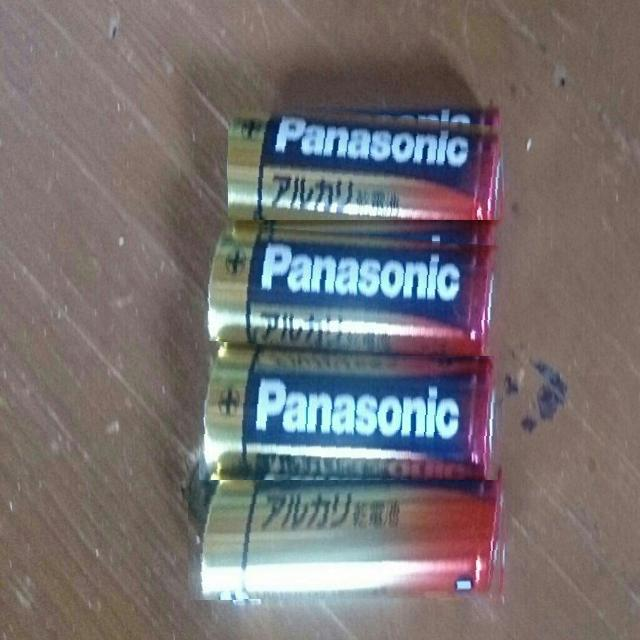battery: (200, 340, 506, 484), (205, 222, 504, 356), (188, 480, 511, 600), (228, 100, 508, 220)
